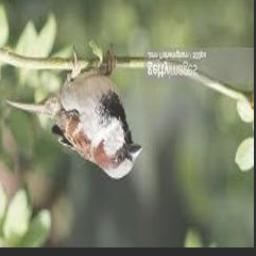Sparrow: (5, 45, 141, 179)
